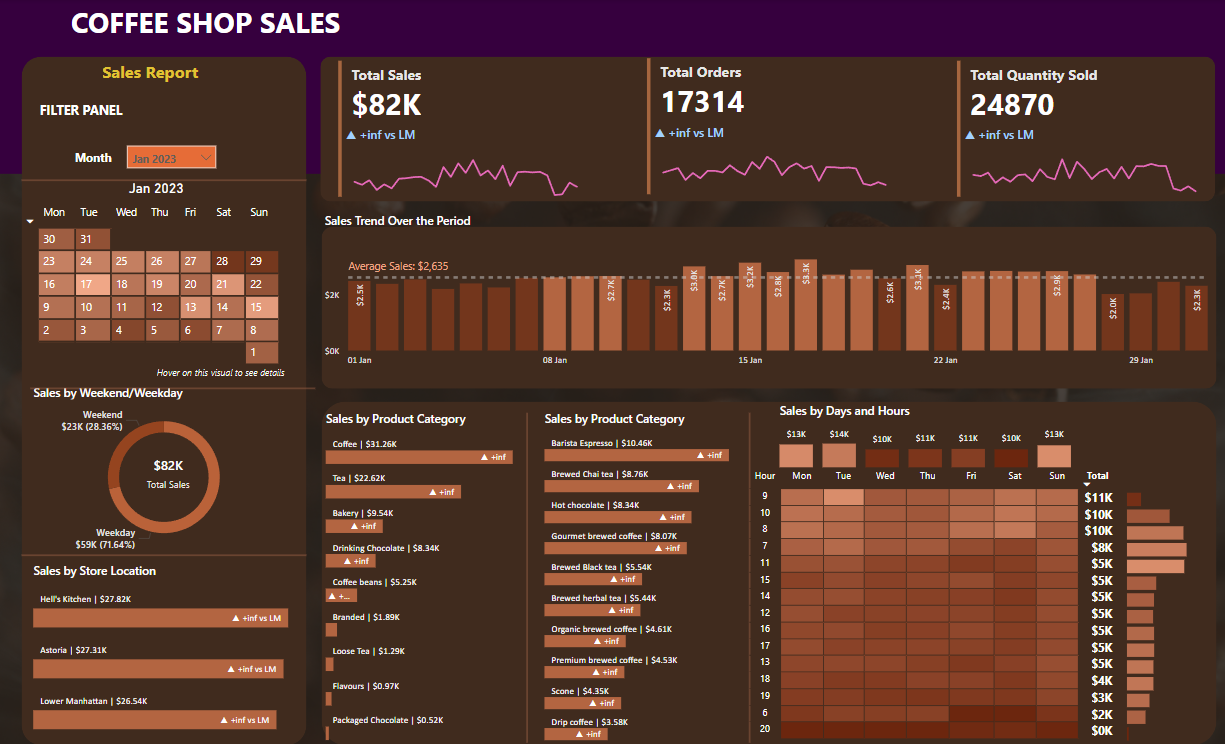

The dashboard page shown, as its layout file describes it:
{"tool":"powerbi","page":{"name":"Page 1","canvas":[1400,850],"ordinal":0},"visuals":[{"type":"shape","box":[0,0,1400.1,199.4],"z":0},{"type":"shape","box":[25.6,65.5,324.7,784.8],"z":1000},{"type":"shape","box":[366,65.5,1019.8,165.2],"z":2000},{"type":"textbox","box":[76.9,0,351.8,65.5],"z":3000},{"type":"cardVisual","fields":{"Data":["Transactions.Total Orders"]},"box":[734.2,62.7,300.5,165.2],"z":4000,"group":"g2"},{"type":"cardVisual","fields":{"Data":["Transactions.Total Sales"]},"box":[381.7,65.5,300.5,165.2],"z":4000,"group":"g1"},{"type":"cardVisual","fields":{"Data":["Transactions.Total Quantity Sold"]},"box":[1086.7,65.5,300.5,165.2],"z":4000,"group":"g3"},{"type":"slicer","fields":{"Values":["Date Table.Month Year"]},"box":[141,162.4,111.1,37],"z":4000},{"type":"group","id":"g1","title":"Group 1","box":[381.7,65.5,300.5,165.2],"z":5000},{"type":"group","id":"g2","title":"Group 1","box":[734.2,62.7,300.5,165.2],"z":6000},{"type":"lineChart","fields":{"Category":["Date Table.Date Hierarchy.Date"],"Y":["Transactions.Total Orders"]},"box":[742.7,142.5,283.4,85.5],"z":6000,"group":"g2"},{"type":"lineChart","fields":{"Y":["Transactions.Total Sales"],"Category":["Date Table.Date Hierarchy.Date"]},"box":[390.2,145.3,283.4,85.5],"z":6000,"group":"g1"},{"type":"lineChart","fields":{"Category":["Date Table.Date Hierarchy.Date"],"Y":["Transactions.Total Quantity Sold"]},"box":[1095.2,145.3,283.4,85.5],"z":6000,"group":"g3"},{"type":"group","id":"g3","title":"Group 1","box":[1086.7,65.5,300.5,165.2],"z":7000},{"type":"pivotTable","fields":{"Rows":["Date Table.Week Number"],"Columns":["Date Table.Day Name"],"Values":["Min(Date Table.Day Number)"]},"box":[21.4,226.5,407.3,209.4],"z":8000},{"type":"card","fields":{"Values":["Min(Date Table.Month Year)"]},"box":[112.5,199.4,133.9,34.2],"z":9000},{"type":"card","fields":{"Values":["Transactions.Foot Note"]},"box":[142.4,411.6,220.8,34.2],"z":10000},{"type":"shape","box":[25.6,199.4,324.7,14.2],"z":11000},{"type":"donutChart","title":"Sales by Weekend/Weekday","fields":{"Category":["Date Table.Weekend/Weekday"],"Y":["Transactions.Total Sales"]},"box":[34.2,438.7,307.6,195.1],"z":12000},{"type":"shape","box":[602.5,468.6,32.8,376],"z":13000},{"type":"card","fields":{"Values":["Transactions.Total Sales"]},"box":[132.5,512.7,121.1,54.1],"z":14000},{"type":"shape","box":[25.6,625.3,324.7,17.1],"z":15000},{"type":"clusteredBarChart","title":"Sales by Store Location","fields":{"Category":["Transactions.store_location"],"Y":["Transactions.Placeholder","Transactions.Total Sales"]},"box":[34.2,642.3,324.7,198],"z":16000},{"type":"shape","box":[367.5,458.6,1019.8,391.7],"z":17000},{"type":"shape","box":[367.5,259.2,1019.8,185],"z":18000},{"type":"columnChart","title":"Sales Trend Over the Period","fields":{"Category":["Transactions.transaction_date"],"Y":["Transactions.Total Sales"]},"box":[366,243.6,1018.4,185.2],"z":19000},{"type":"clusteredBarChart","title":"Sales by Product Category","fields":{"Y":["Transactions.Placeholder","Transactions.Total Sales"],"Category":["Transactions.product_category"]},"box":[367.5,468.6,250.7,381.7],"z":20000},{"type":"shape","box":[840.3,471.4,29.9,376],"z":21000},{"type":"shape","box":[35.6,433,324.7,21.4],"z":22000},{"type":"clusteredBarChart","title":"Sales by Product Category","fields":{"Y":["Transactions.Placeholder","Transactions.Total Sales"],"Category":["Transactions.product_type"]},"box":[616.7,468.6,250.7,381.7],"z":23000},{"type":"shape","box":[586.8,471.4,29.9,376],"z":24000},{"type":"pivotTable","fields":{"Rows":["Transactions.Hour"],"Columns":["Date Table.Day Name"],"Values":["Transactions.Total Sales"]},"box":[850.3,531.3,433,319],"z":25000},{"type":"barChart","fields":{"Category":["Transactions.Hour"],"Y":["Transactions.Total Sales"]},"box":[1280.4,549.8,106.8,300.5],"z":26000},{"type":"columnChart","title":"Sales by Days and Hours","fields":{"Y":["Transactions.Total Sales"],"Category":["Date Table.Day Name"]},"box":[884.5,460,343.2,79.8],"z":27000},{"type":"textbox","box":[81.2,166.6,64.1,37],"z":28000},{"type":"textbox","box":[112.5,65.5,129.6,37],"z":29000},{"type":"textbox","box":[41.3,111.1,122.5,37],"z":30000}]}

Visuals, with their boxes in screenshot pixels (x1, y1, x2, y2), scaled from the page's 1400x850 canvas onto the 1225x744 screenshot:
shape: x1=0, y1=0, x2=1224, y2=175
shape: x1=22, y1=57, x2=307, y2=743
shape: x1=320, y1=57, x2=1213, y2=202
textbox: x1=67, y1=0, x2=375, y2=57
cardVisual - Transactions.Total Orders: x1=642, y1=55, x2=905, y2=199
cardVisual - Transactions.Total Sales: x1=334, y1=57, x2=597, y2=202
cardVisual - Transactions.Total Quantity Sold: x1=951, y1=57, x2=1214, y2=202
slicer - Date Table.Month Year: x1=123, y1=142, x2=221, y2=175
"Group 1" group: x1=334, y1=57, x2=597, y2=202
"Group 1" group: x1=642, y1=55, x2=905, y2=199
lineChart - Date Table.Date Hierarchy.Date x Transactions.Total Orders: x1=650, y1=125, x2=898, y2=200
lineChart - Transactions.Total Sales x Date Table.Date Hierarchy.Date: x1=341, y1=127, x2=589, y2=202
lineChart - Date Table.Date Hierarchy.Date x Transactions.Total Quantity Sold: x1=958, y1=127, x2=1206, y2=202
"Group 1" group: x1=951, y1=57, x2=1214, y2=202
pivotTable - Date Table.Week Number x Date Table.Day Name: x1=19, y1=198, x2=375, y2=382
card - Min(Date Table.Month Year): x1=98, y1=175, x2=216, y2=204
card - Transactions.Foot Note: x1=125, y1=360, x2=318, y2=390
shape: x1=22, y1=175, x2=307, y2=187
"Sales by Weekend/Weekday" donutChart: x1=30, y1=384, x2=299, y2=555
shape: x1=527, y1=410, x2=556, y2=739
card - Transactions.Total Sales: x1=116, y1=449, x2=222, y2=496
shape: x1=22, y1=547, x2=307, y2=562
"Sales by Store Location" clusteredBarChart: x1=30, y1=562, x2=314, y2=736
shape: x1=322, y1=401, x2=1214, y2=743
shape: x1=322, y1=227, x2=1214, y2=389
"Sales Trend Over the Period" columnChart: x1=320, y1=213, x2=1211, y2=375
"Sales by Product Category" clusteredBarChart: x1=322, y1=410, x2=541, y2=743
shape: x1=735, y1=413, x2=761, y2=742
shape: x1=31, y1=379, x2=315, y2=398
"Sales by Product Category" clusteredBarChart: x1=540, y1=410, x2=759, y2=743
shape: x1=513, y1=413, x2=540, y2=742
pivotTable - Transactions.Hour x Date Table.Day Name: x1=744, y1=465, x2=1123, y2=743
barChart - Transactions.Hour x Transactions.Total Sales: x1=1120, y1=481, x2=1214, y2=743
"Sales by Days and Hours" columnChart: x1=774, y1=403, x2=1074, y2=472
textbox: x1=71, y1=146, x2=127, y2=178
textbox: x1=98, y1=57, x2=212, y2=90
textbox: x1=36, y1=97, x2=143, y2=130
